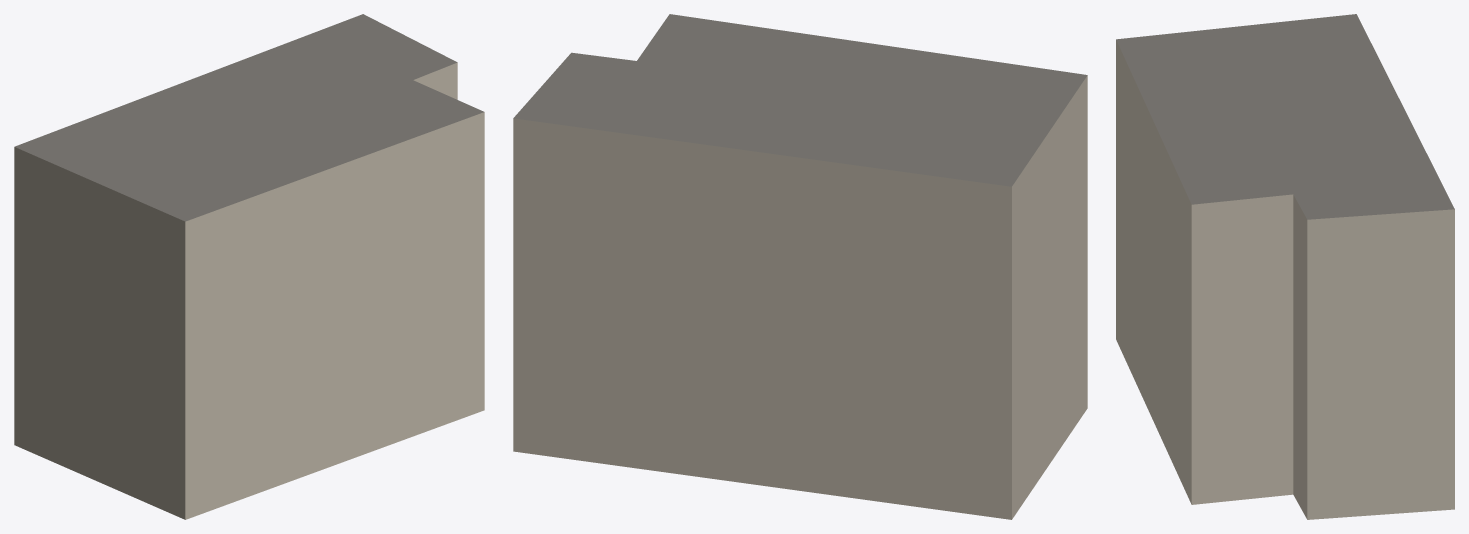
The picture shows the model from 3 angles, left to right: view 1: azimuth 30°, elevation 25°; view 2: azimuth 150°, elevation 25°; view 3: azimuth 270°, elevation 25°; orthographic projection. The views are drawn at different scales.
Visible parts, largest first — view 1: HP-w505643540; view 2: HP-w505643540; view 3: HP-w505643540.
Boxes of the visible parts, box(x1,y1,x2,y2) form: HP-w505643540: box(14, 14, 484, 519); HP-w505643540: box(513, 14, 1087, 519); HP-w505643540: box(1116, 14, 1454, 519).
Bounding box in the file's own units: 17.64 × 12 × 12.27.
